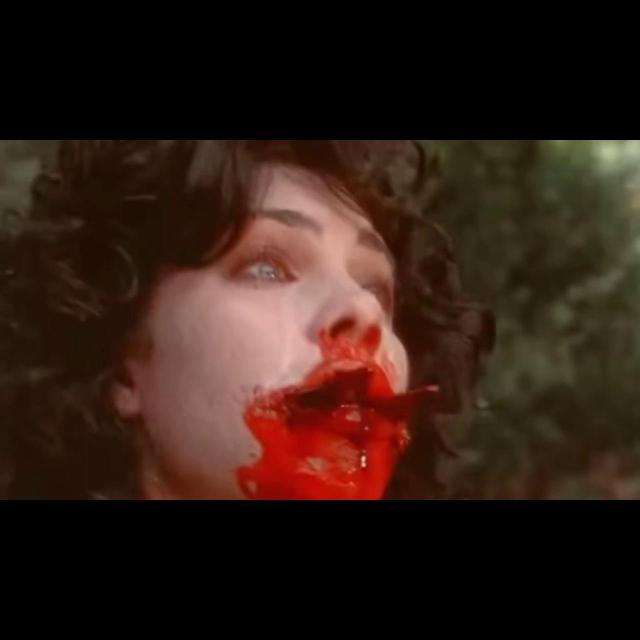blood: (236, 318, 438, 499)
